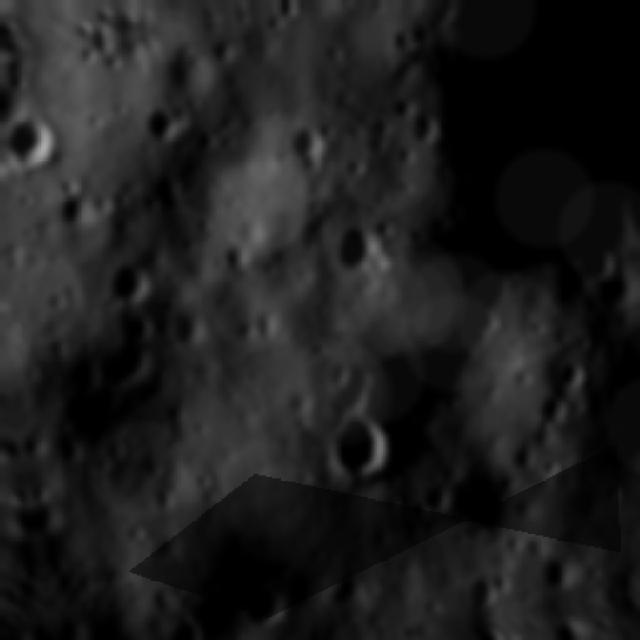crater: (329, 406, 397, 476), (0, 106, 71, 169), (318, 352, 387, 410), (284, 109, 330, 188), (96, 252, 162, 306), (237, 574, 288, 631), (450, 561, 505, 607), (334, 218, 371, 270), (555, 352, 599, 390), (146, 98, 182, 142), (534, 447, 571, 482), (575, 240, 611, 274), (187, 458, 224, 490), (410, 108, 441, 146), (274, 0, 314, 20), (542, 393, 569, 419), (79, 36, 98, 72), (0, 50, 22, 78)
